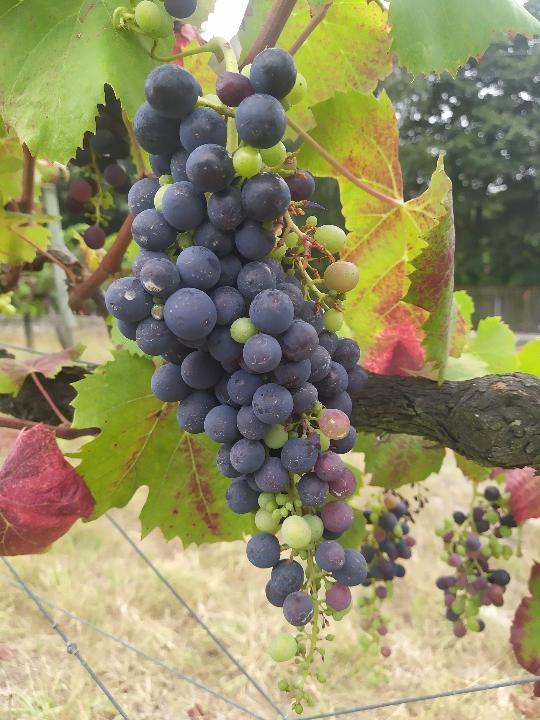grape: (104, 46, 360, 715), (349, 480, 430, 698), (434, 486, 522, 641)
